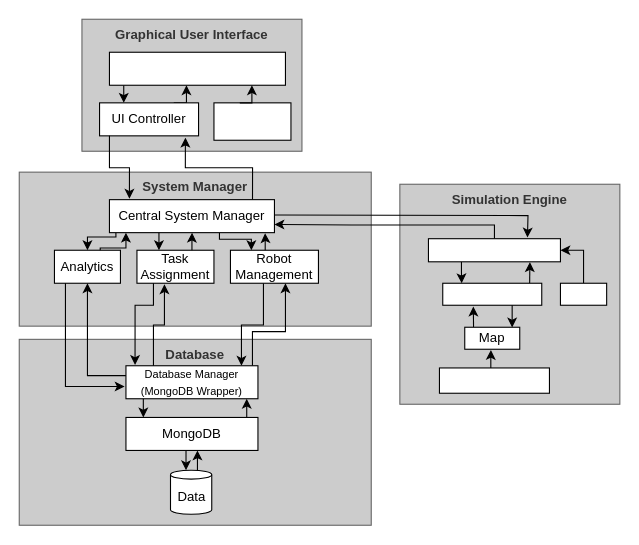
Image size: 639x545. Some labels were removed from this diagram. Here are the shapes that lost their labels. From the top down, the centre of each, then its label:
(196,68): User-Facing View
(252,121): Framework/ Model
(493,250): Simulation Controller
(492,293): Map Manager
(583,293): Clock
(493,380): Configuration File
